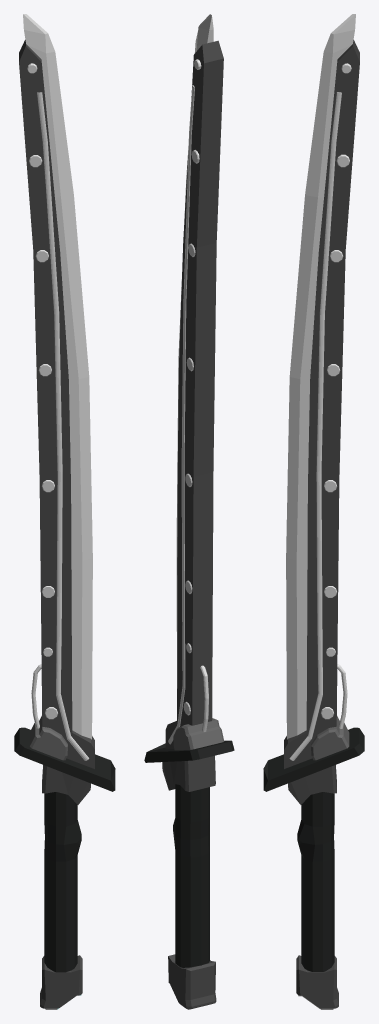
The model's file is cybersword.fbx.
3 views of the same model, side by side, from view 1: azimuth 90°, elevation 25°; view 2: azimuth 210°, elevation 25°; view 3: azimuth 270°, elevation 25° (orthographic).
Parts seen in each view (by area): view 1: Cyber-sword; view 2: Cyber-sword; view 3: Cyber-sword.
Boxes of the visible parts, x1=… form: Cyber-sword: x1=14, y1=14, x2=115, y2=1009; Cyber-sword: x1=144, y1=14, x2=234, y2=1009; Cyber-sword: x1=263, y1=14, x2=364, y2=1009.
Bounding box in the file's own units: 4.3 × 97.91 × 9.05.
